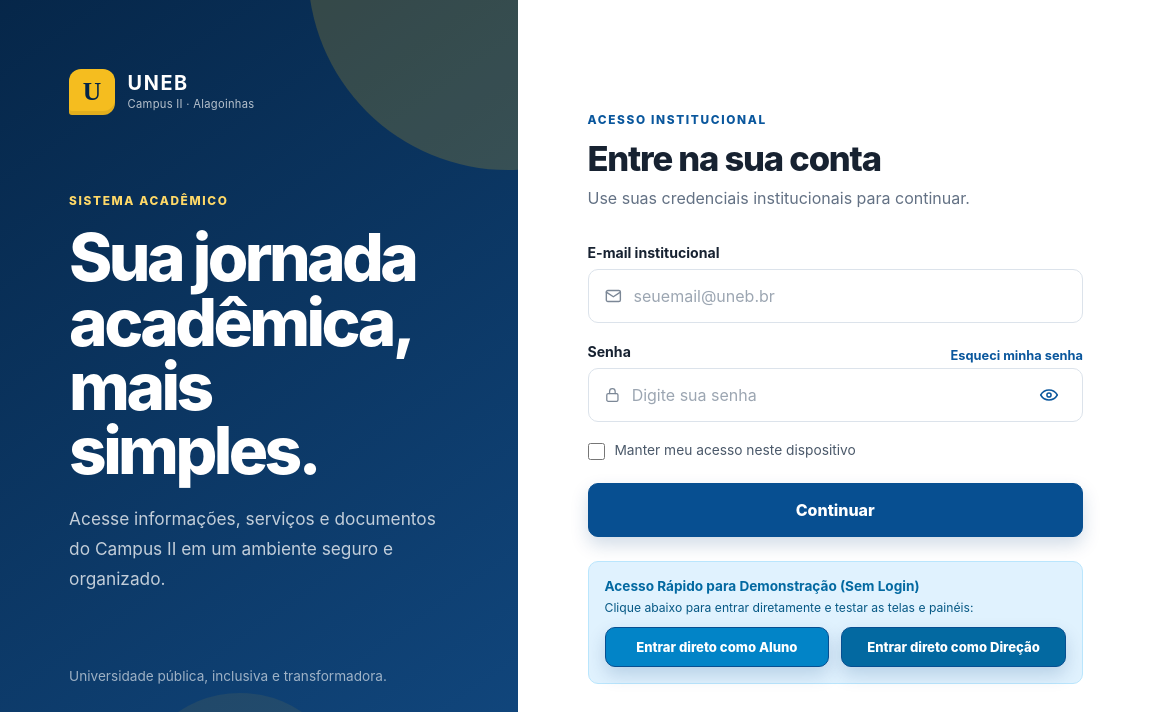
Test case: fluxo de autenticação › mostra mensagens de validação quando os campos estão vazios
Click the button "Continuar" at (835, 510), box [588, 483, 1083, 537]
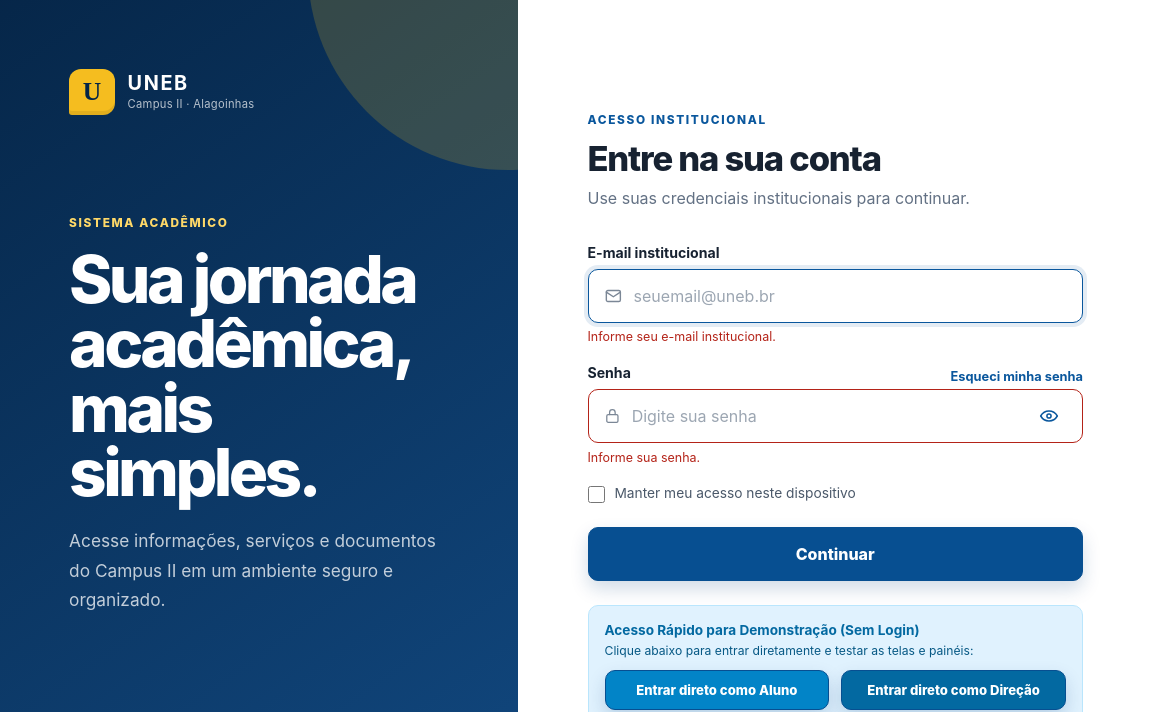
Now the text "Informe seu e-mail institucional." is shown, box [588, 329, 776, 344]
Now the text "Informe sua senha." is shown, box [588, 450, 700, 465]
